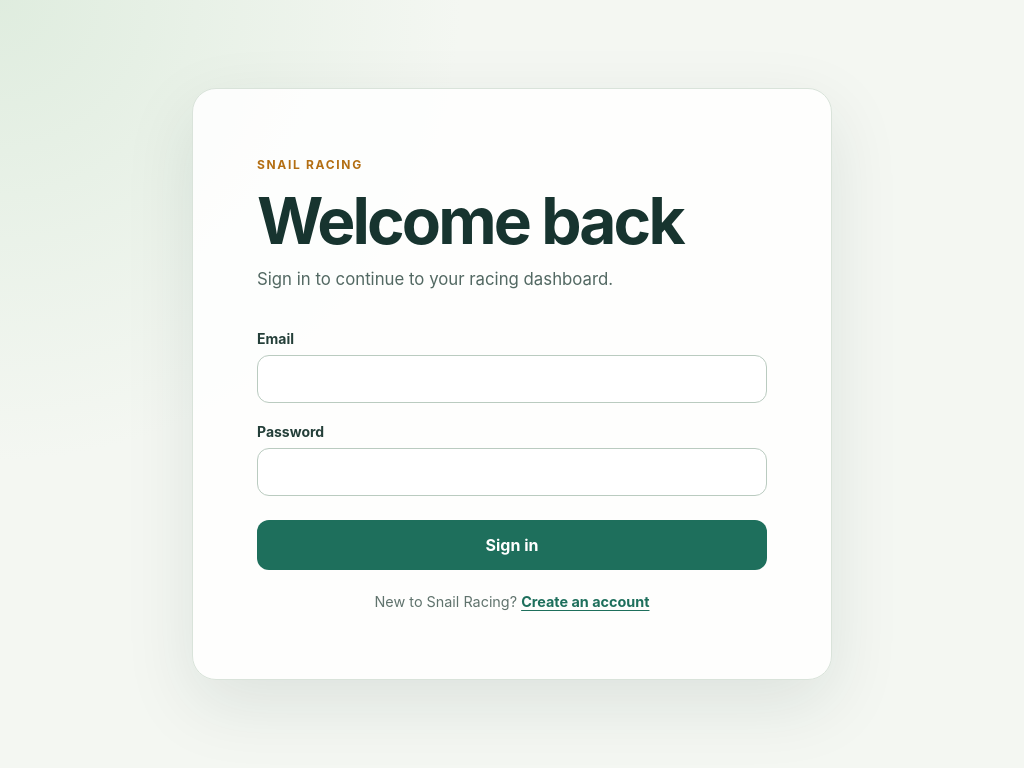
Test: LoginPage › shows a generic error for invalid credentials
Type "ada@example.com" into the field labelled "Email" at (512, 379), box [257,355,767,403]
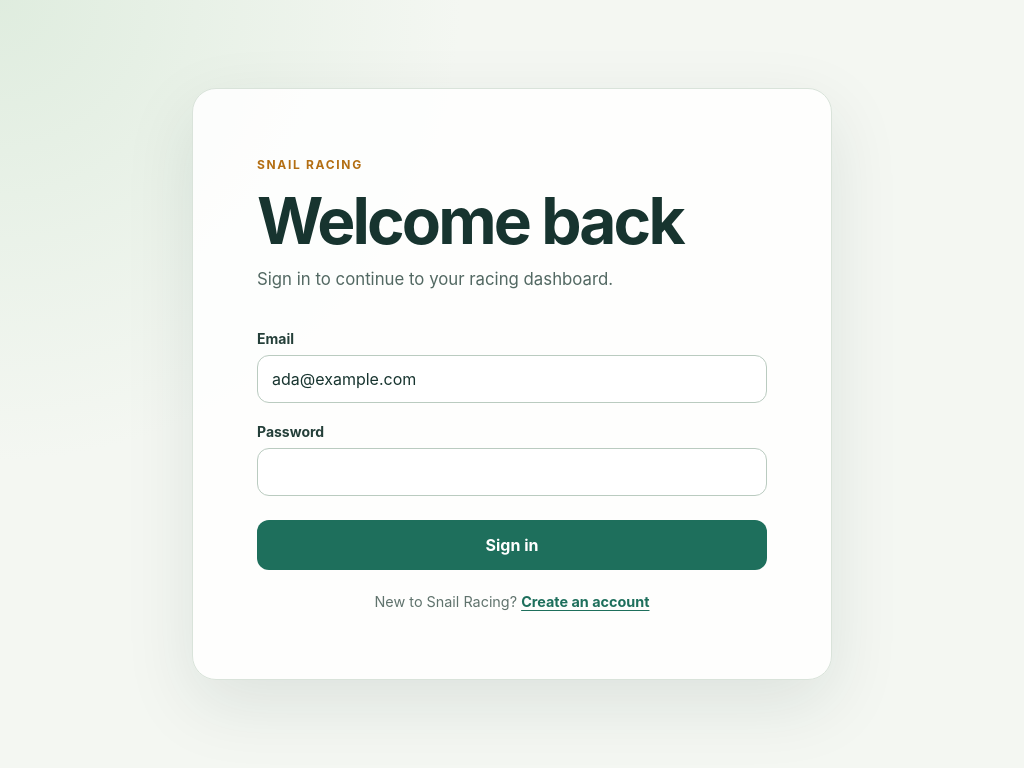
Type "WrongPassword" into the password field labelled "Password" at (512, 472), box [257,448,767,496]
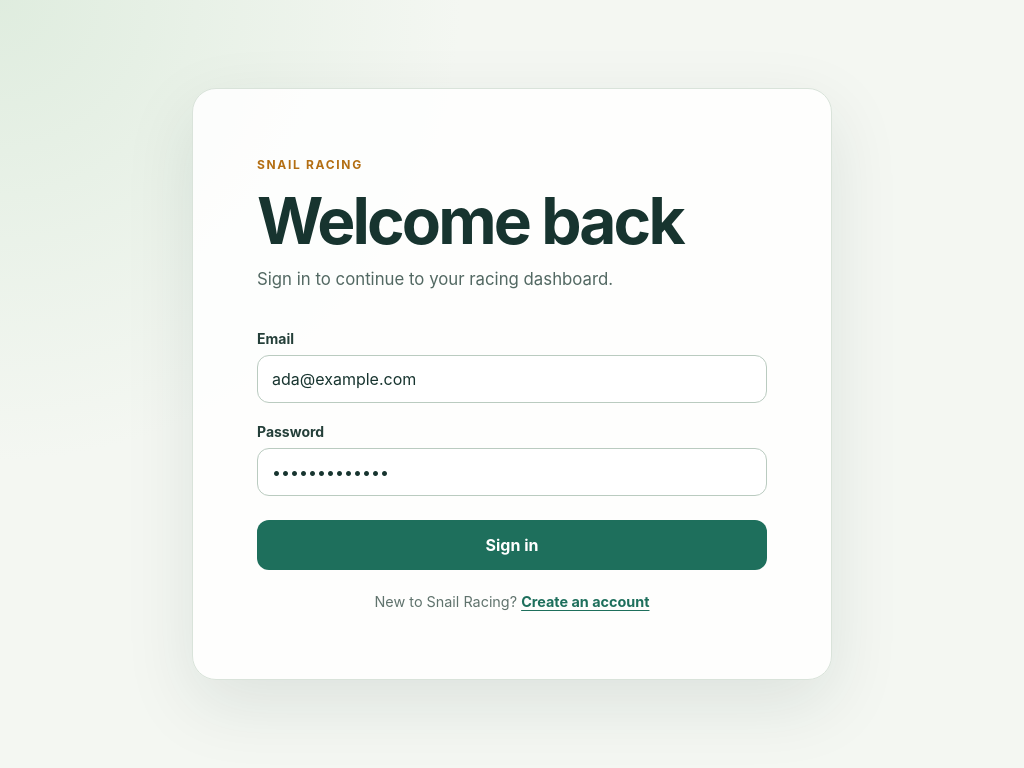
Click the button "Sign in" at (512, 545), box [257,520,767,570]
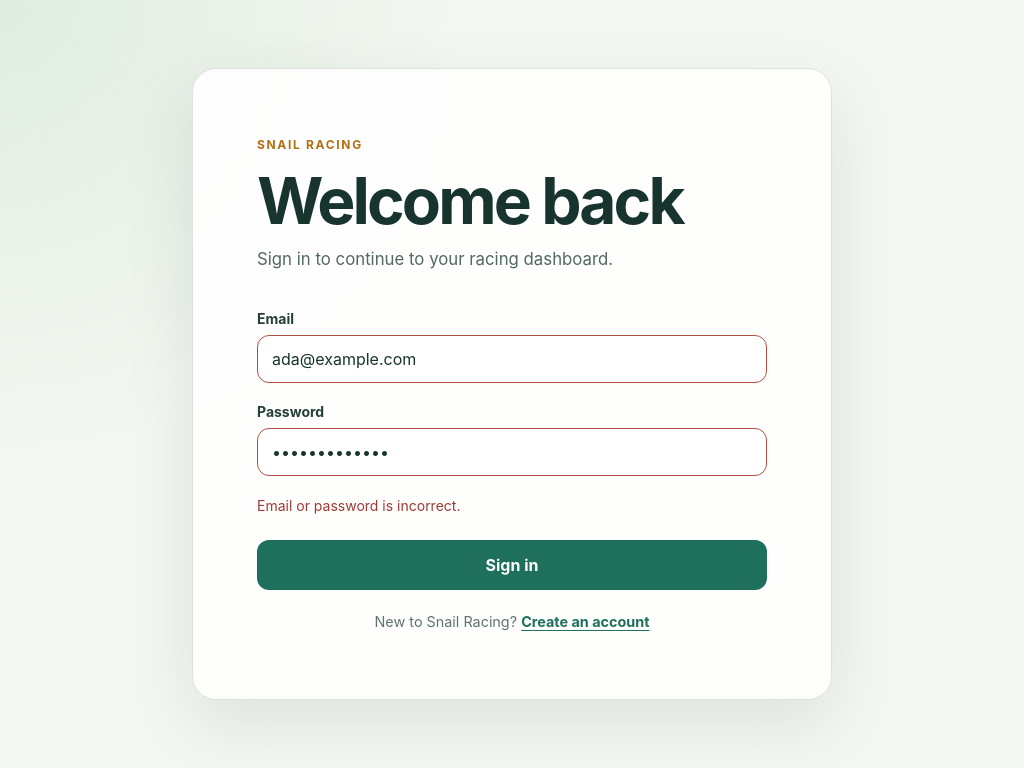
Now the text "Email or password is incorrect." is shown, box [257,497,460,514]
Type "Caracol123" into the password field labelled "Password" at (512, 452), box [257,428,767,476]
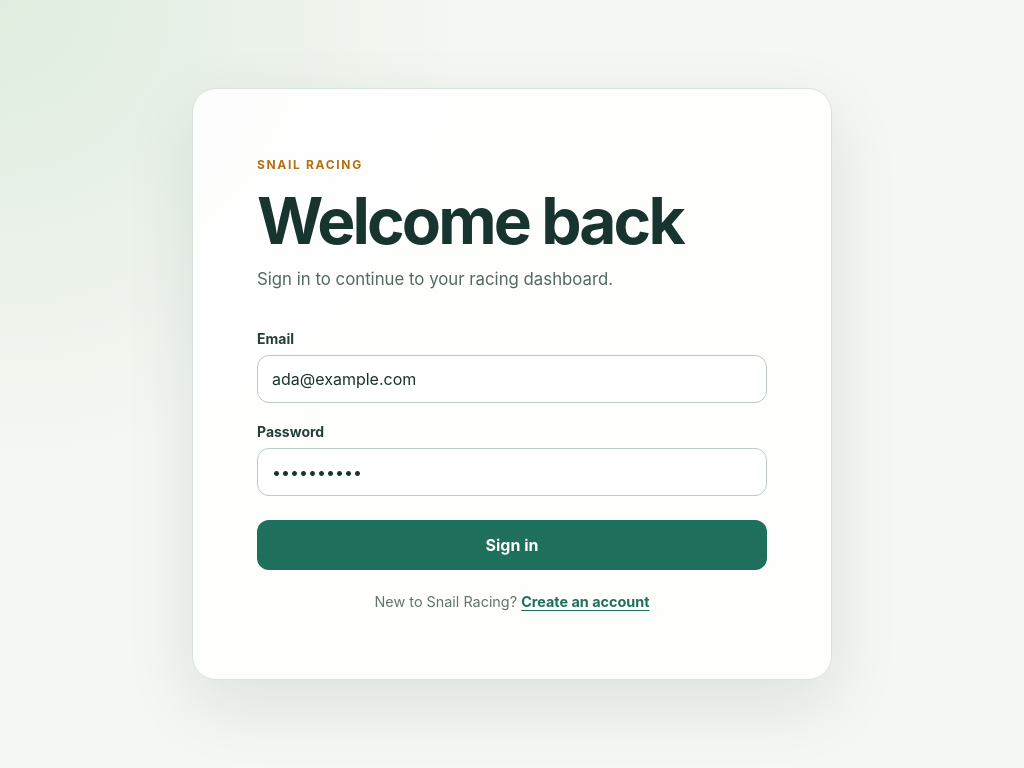
Now the text "Email or password is incorrect" is gone
